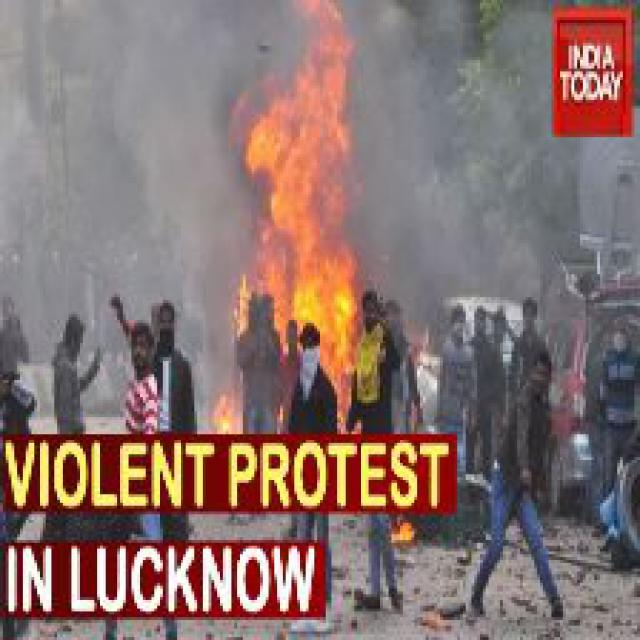fire: (229, 6, 374, 394)
